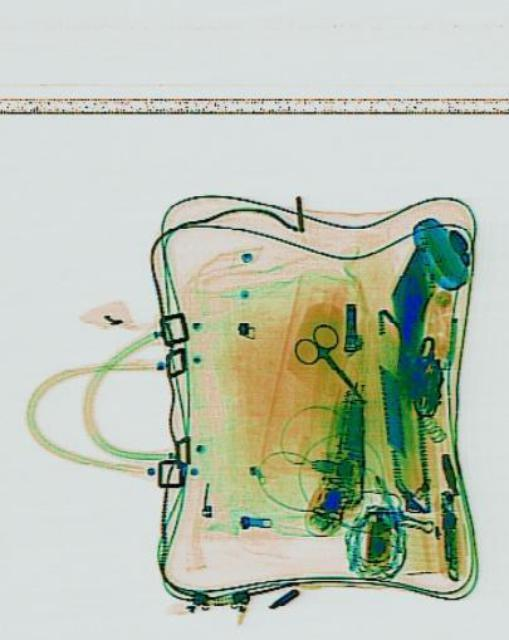Scissors: (287, 313, 369, 411)
